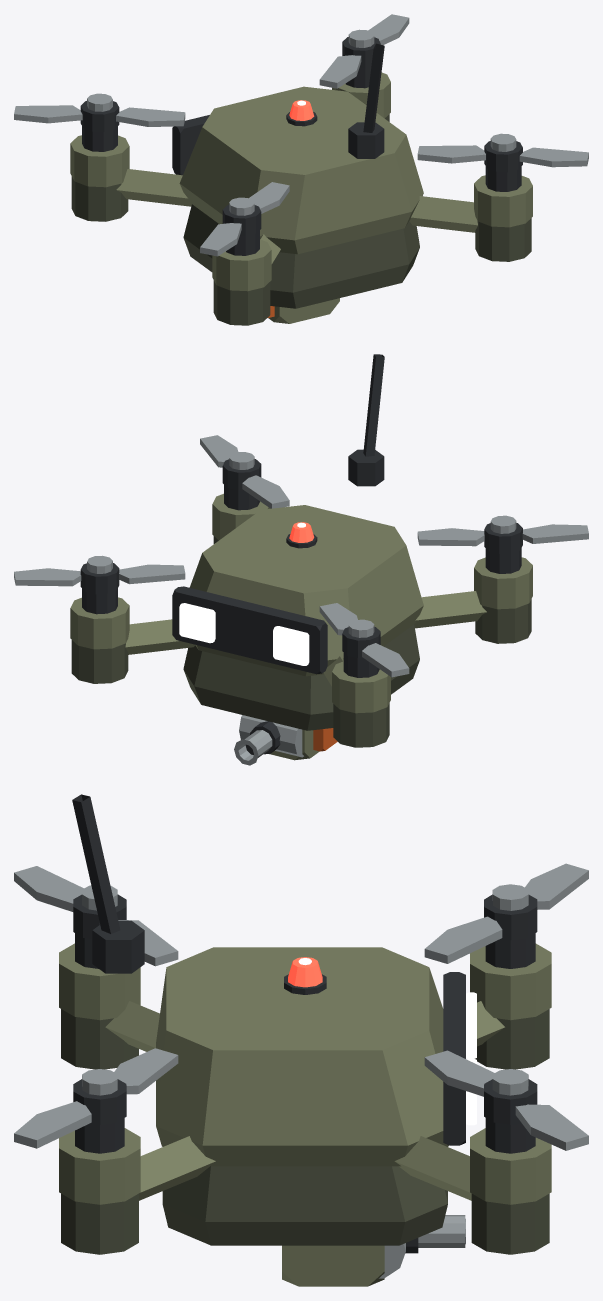
The model's file is flyer.glb.
3 renders of one model, top to bottom at view 1: azimuth 30°, elevation 25°; view 2: azimuth 150°, elevation 25°; view 3: azimuth 270°, elevation 25°, orthographic. The views are drawn at different scales.
Parts seen in each view (by area): view 1: flyer_body, flyer_prop_1_-1, flyer_prop_-1_1, flyer_prop_-1_-1, flyer_prop_1_1, flyer_turret; view 2: flyer_body, flyer_prop_1_1, flyer_prop_-1_-1, flyer_prop_1_-1, flyer_prop_-1_1, flyer_gun, flyer_gun_cradle, flyer_turret; view 3: flyer_body, flyer_prop_1_1, flyer_prop_-1_1, flyer_prop_1_-1, flyer_turret, flyer_prop_-1_-1, flyer_gun, flyer_beacon.
Part boxes in pixels (<box>): flyer_body: <box>70,43,532,325</box>; flyer_prop_1_-1: <box>417,133,588,172</box>; flyer_prop_-1_1: <box>14,93,185,131</box>; flyer_prop_-1_-1: <box>200,182,289,256</box>; flyer_prop_1_1: <box>319,14,409,88</box>; flyer_turret: <box>268,298,339,323</box>; flyer_body: <box>70,354,532,747</box>; flyer_prop_1_1: <box>14,555,185,594</box>; flyer_prop_-1_-1: <box>417,515,588,553</box>; flyer_prop_1_-1: <box>200,435,289,508</box>; flyer_prop_-1_1: <box>319,603,409,677</box>; flyer_gun: <box>234,721,280,765</box>; flyer_gun_cradle: <box>239,715,303,757</box>; flyer_turret: <box>269,728,337,760</box>; flyer_body: <box>59,794,551,1254</box>; flyer_prop_1_1: <box>424,1050,588,1150</box>; flyer_prop_-1_1: <box>424,863,588,963</box>; flyer_prop_1_-1: <box>14,1048,178,1148</box>; flyer_turret: <box>282,1245,384,1286</box>; flyer_prop_-1_-1: <box>14,866,178,966</box>; flyer_gun: <box>405,1215,465,1253</box>; flyer_beacon: <box>288,957,322,987</box>.
Bounding box in the file's own units: 0.3536 × 0.277 × 0.308.
Materials: 3 (2 with a texture image).
